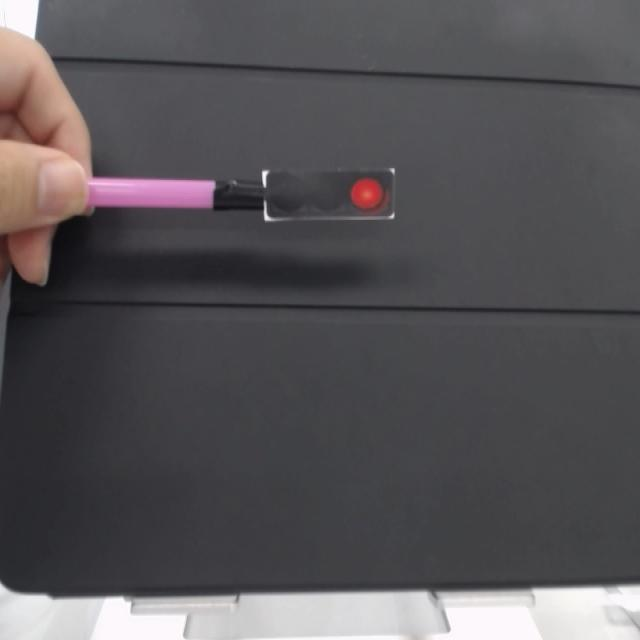traffic light: (260, 165, 400, 225)
